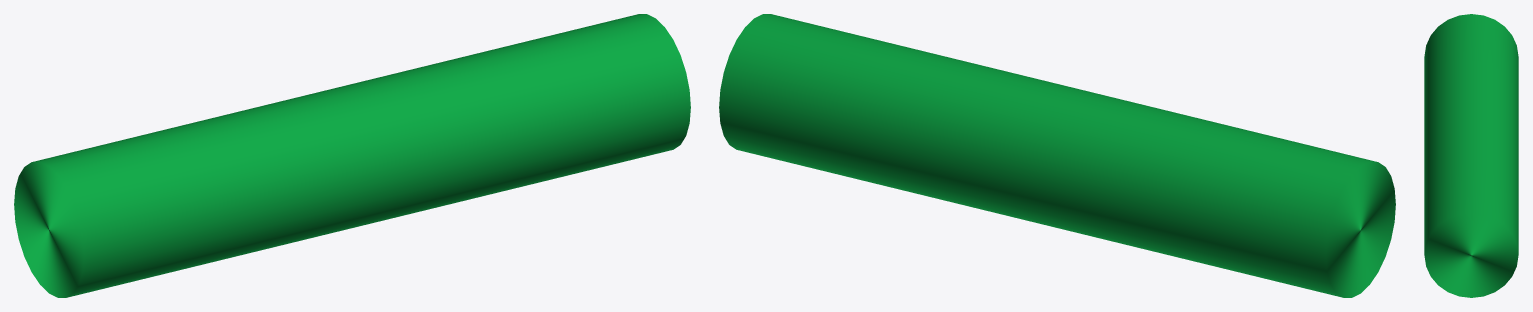
Rendered from pipe.fbx.
The picture shows the model from 3 angles, left to right: view 1: azimuth 30°, elevation 25°; view 2: azimuth 150°, elevation 25°; view 3: azimuth 270°, elevation 25°; orthographic projection. The views are drawn at different scales.
Parts seen in each view (by area): view 1: Mesh; view 2: Mesh; view 3: Mesh.
Part boxes in pixels (x1,y1,x2,y2): Mesh: (14, 14, 690, 297); Mesh: (719, 14, 1395, 297); Mesh: (1424, 14, 1518, 297).
Bounding box in the file's own units: 20 × 4 × 4.
